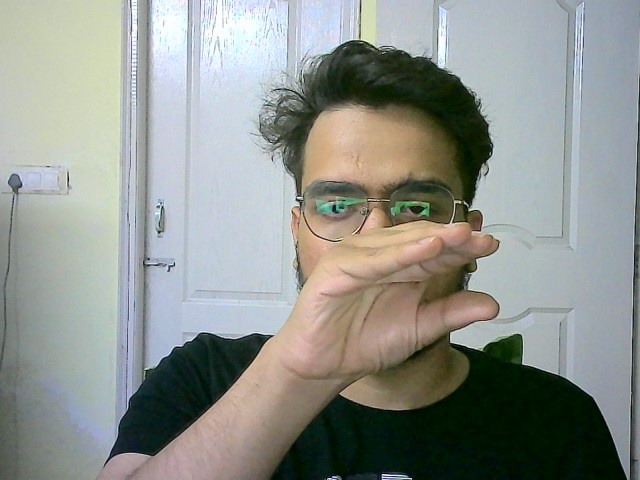No: (246, 217, 503, 365)
